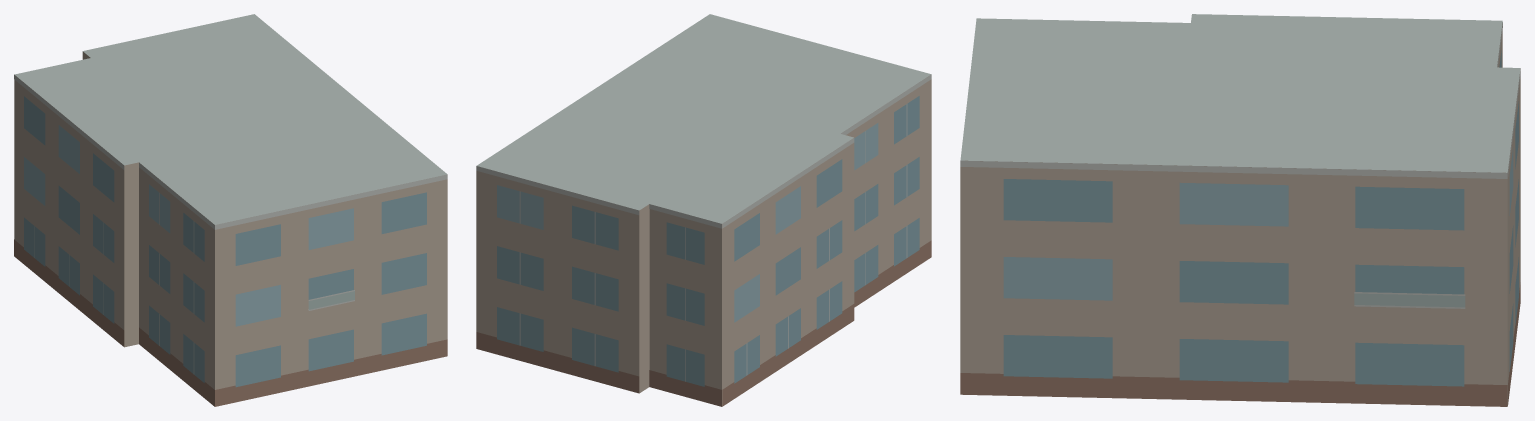
Rendered from survey-upis-33023378.glb.
3 views of the same model, side by side, from view 1: azimuth 30°, elevation 25°; view 2: azimuth 150°, elevation 25°; view 3: azimuth 270°, elevation 25° (orthographic). The views are drawn at different scales.
Visible parts, largest first — view 1: survey-upis-33023378.tmp; view 2: survey-upis-33023378.tmp; view 3: survey-upis-33023378.tmp.
Boxes of the visible parts, box(x1,y1,x2,y2) form: survey-upis-33023378.tmp: box(14, 14, 447, 406); survey-upis-33023378.tmp: box(476, 14, 931, 406); survey-upis-33023378.tmp: box(960, 14, 1520, 406).
Size of the model in its own units: 13.33 by 9.15 by 19.86.
